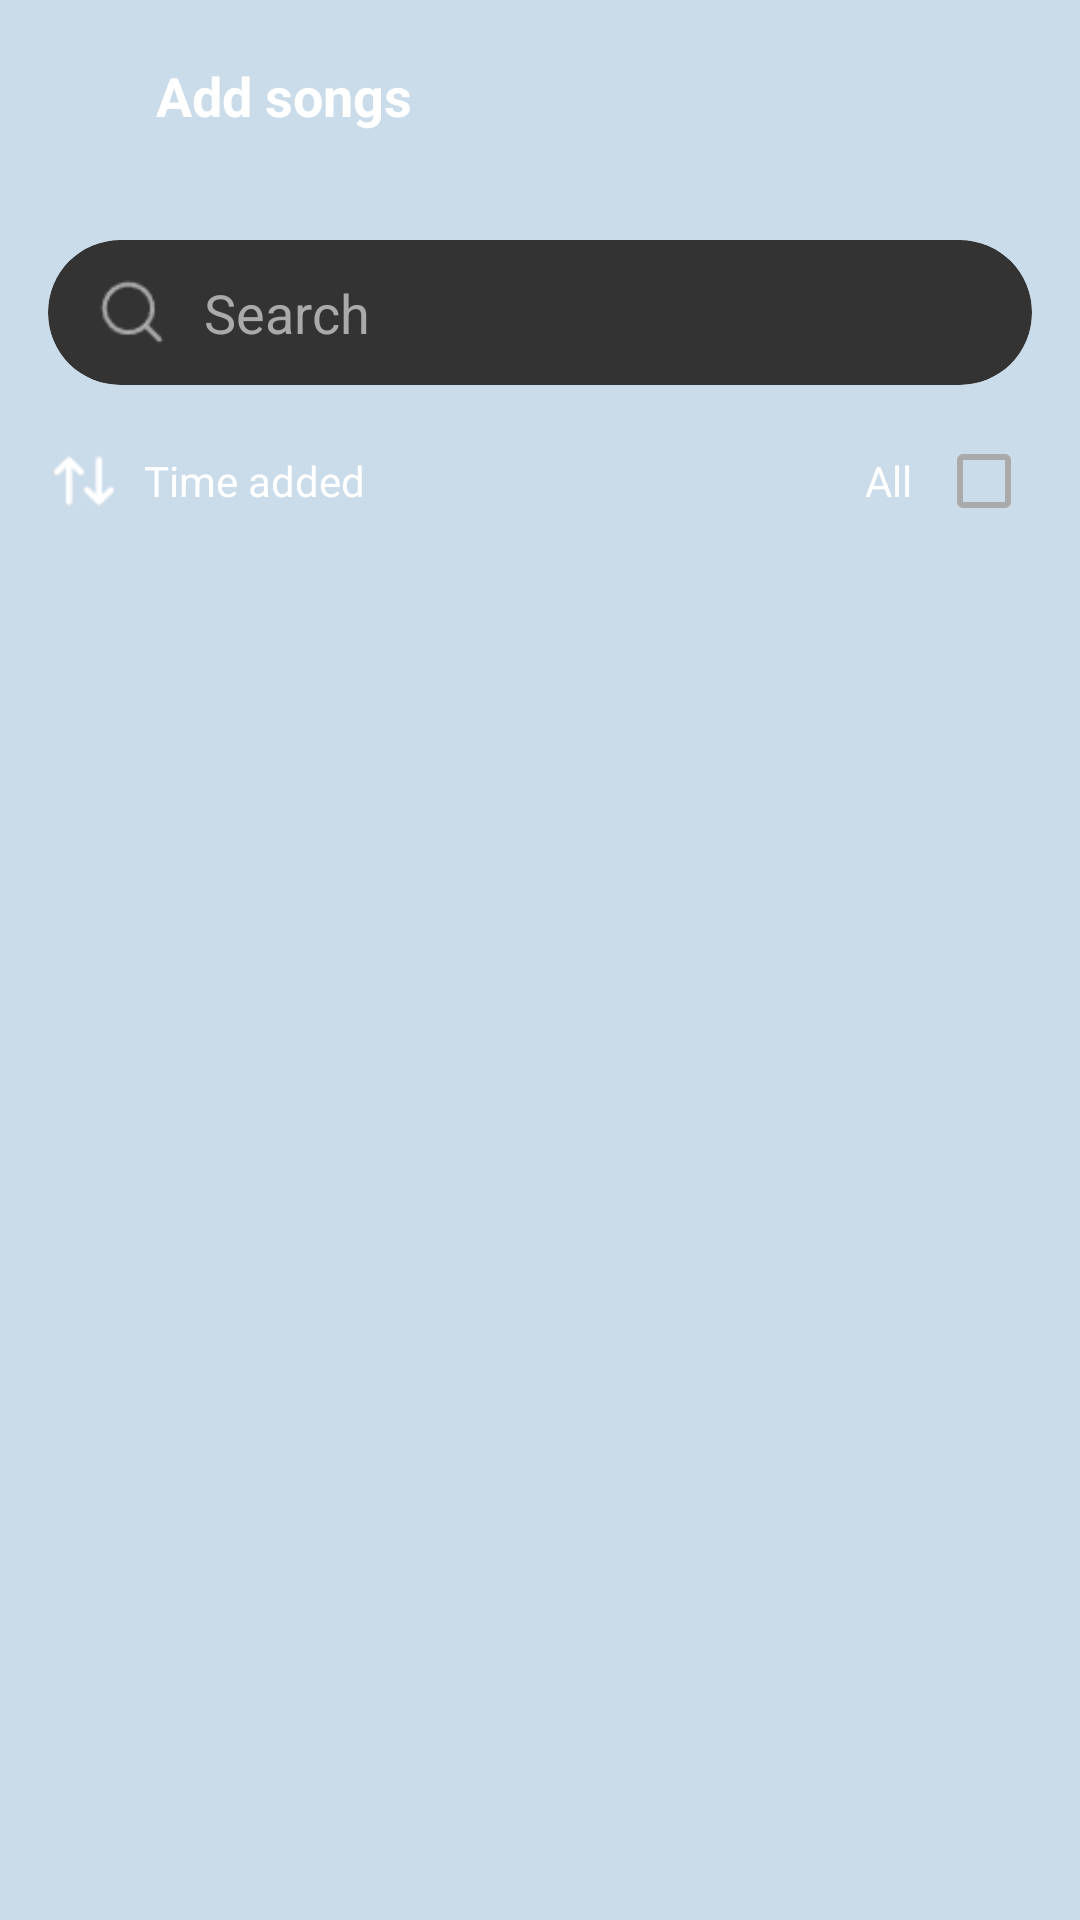

Icon click points for this 1080 x 1920 phone screenshot, format [x,y]:
sort: [84,481]
